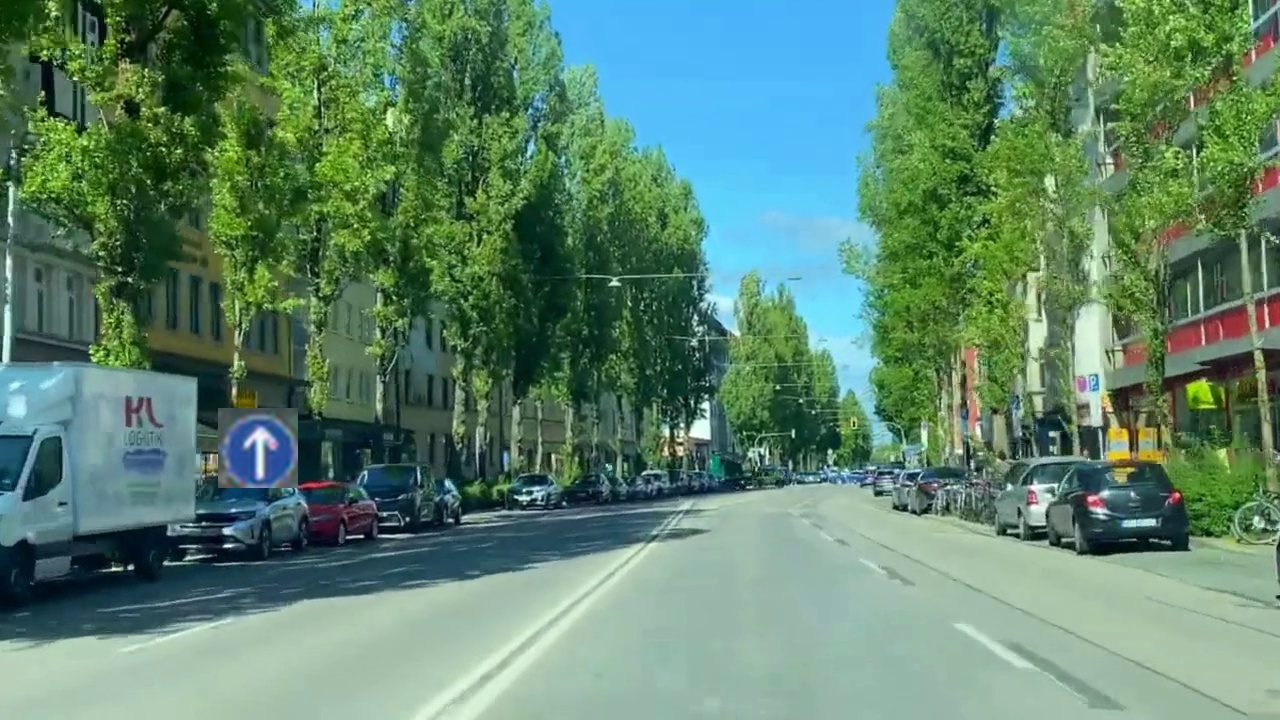Ahead only: (218, 408, 298, 488)
